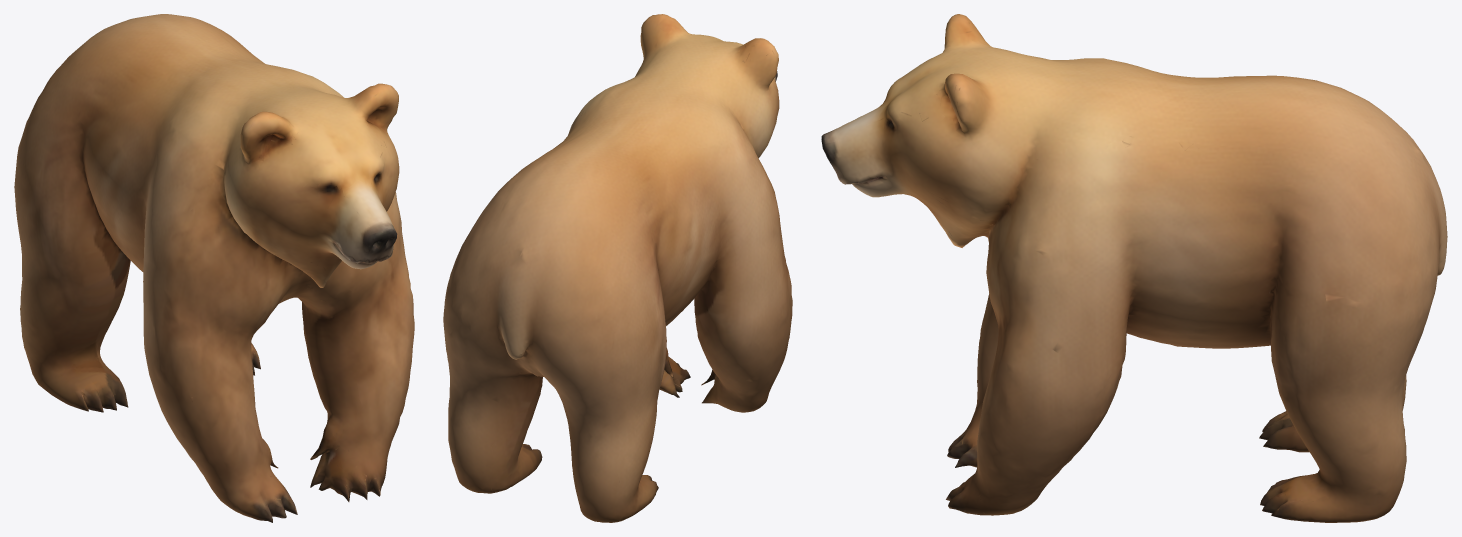
Rendered from base_basic_pbr.glb.
3 views of the same model, side by side, from view 1: azimuth 30°, elevation 25°; view 2: azimuth 150°, elevation 25°; view 3: azimuth 270°, elevation 25° (orthographic). The views are drawn at different scales.
Visible parts, largest first — view 1: model; view 2: model; view 3: model.
Boxes of the visible parts, x1,y1,x2,y2 form: model: (14, 14, 414, 522); model: (443, 14, 792, 522); model: (821, 14, 1447, 522).
Size of the model in its own units: 0.9251 by 1.46 by 1.9.
Materials: 1 (1 with a texture image).
